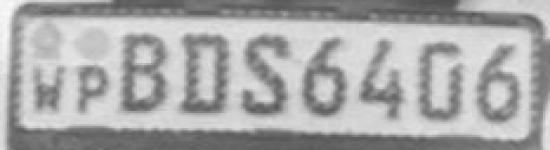0: (415, 37, 470, 128)
4: (359, 33, 408, 117)
6: (472, 39, 528, 133), (301, 34, 356, 122)
B: (114, 30, 172, 117)
D: (176, 31, 234, 121)
P: (68, 60, 113, 117)
S: (236, 29, 298, 122)
W: (30, 58, 69, 116)
